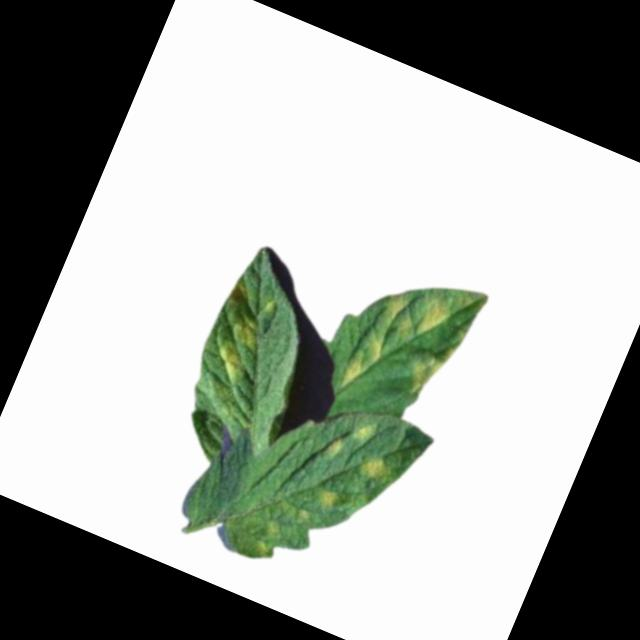Leaf_Mold: (379, 282, 452, 347), (400, 334, 460, 404), (212, 309, 267, 383), (338, 330, 386, 394), (309, 480, 345, 514), (356, 452, 385, 483), (351, 419, 378, 445), (323, 432, 344, 457)
